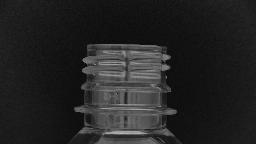No Cap: (66, 38, 186, 118)
